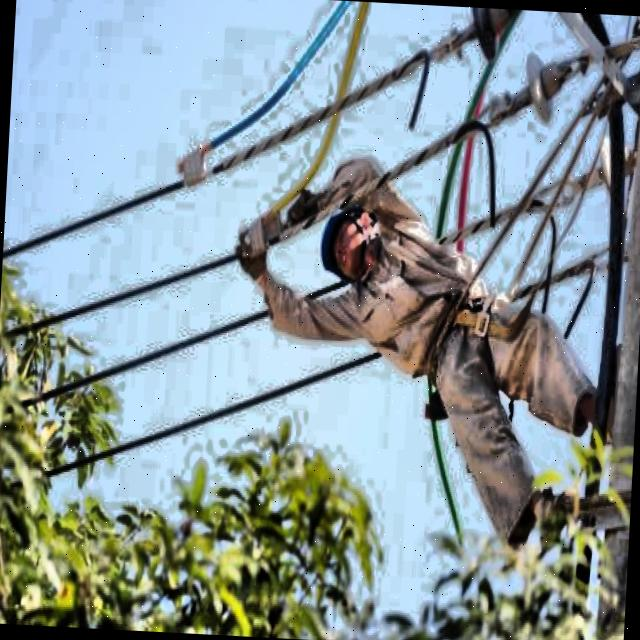helmet: (314, 188, 381, 292)
